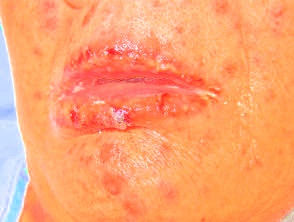SJS-TEN: (52, 88, 220, 218), (54, 35, 227, 101)
